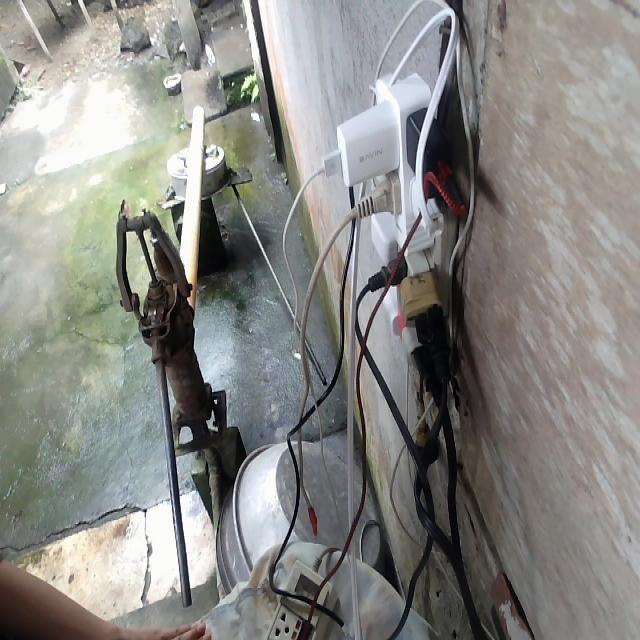-: (323, 62, 470, 390)
